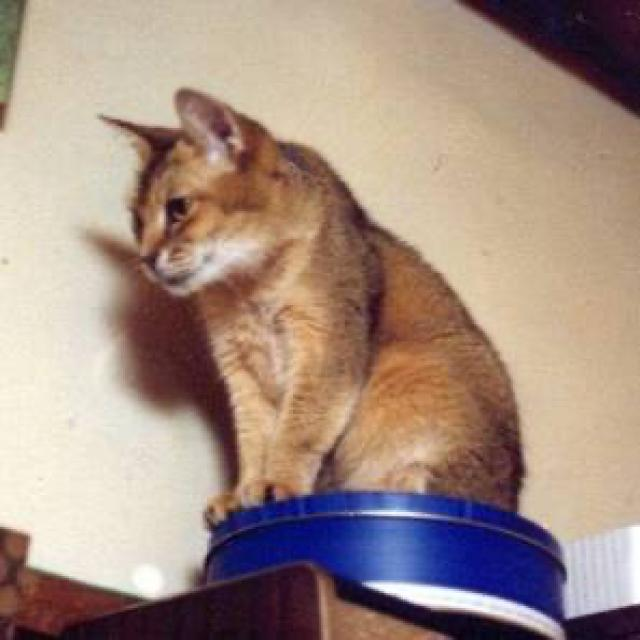cat: (95, 85, 291, 292)
